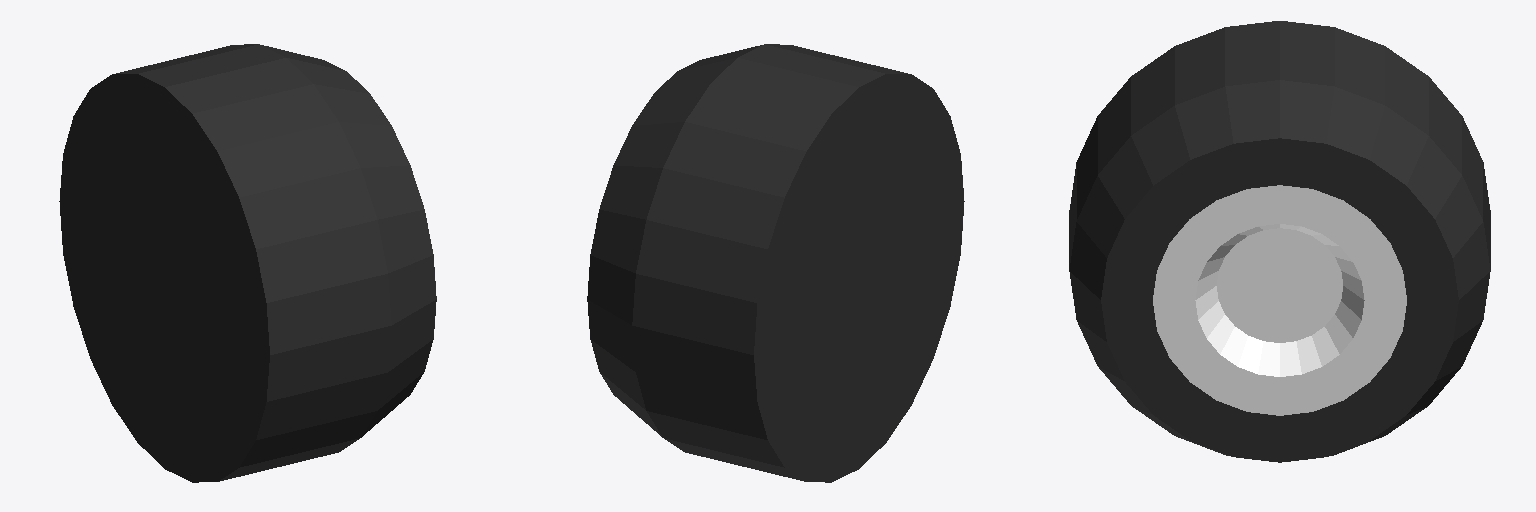
The model's file is wheelDefault.obj.
The picture shows the model from 3 angles: view 1: azimuth 30°, elevation 25°; view 2: azimuth 150°, elevation 25°; view 3: azimuth 270°, elevation 25°; orthographic projection.
Parts seen in each view (by area): view 1: wheelDefault; view 2: wheelDefault; view 3: wheelDefault.
Boxes of the visible parts, <box> form: wheelDefault: <box>59,44,436,482</box>; wheelDefault: <box>587,44,964,482</box>; wheelDefault: <box>1069,21,1490,462</box>.
Bounding box in the file's own units: 0.3 × 0.6 × 0.6.